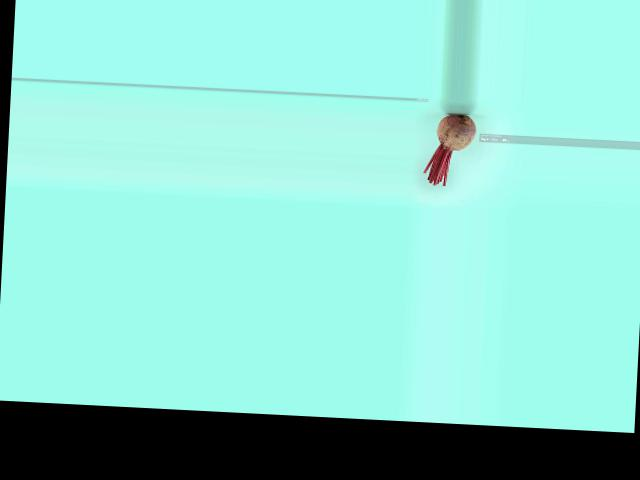beet: (423, 112, 477, 186)
